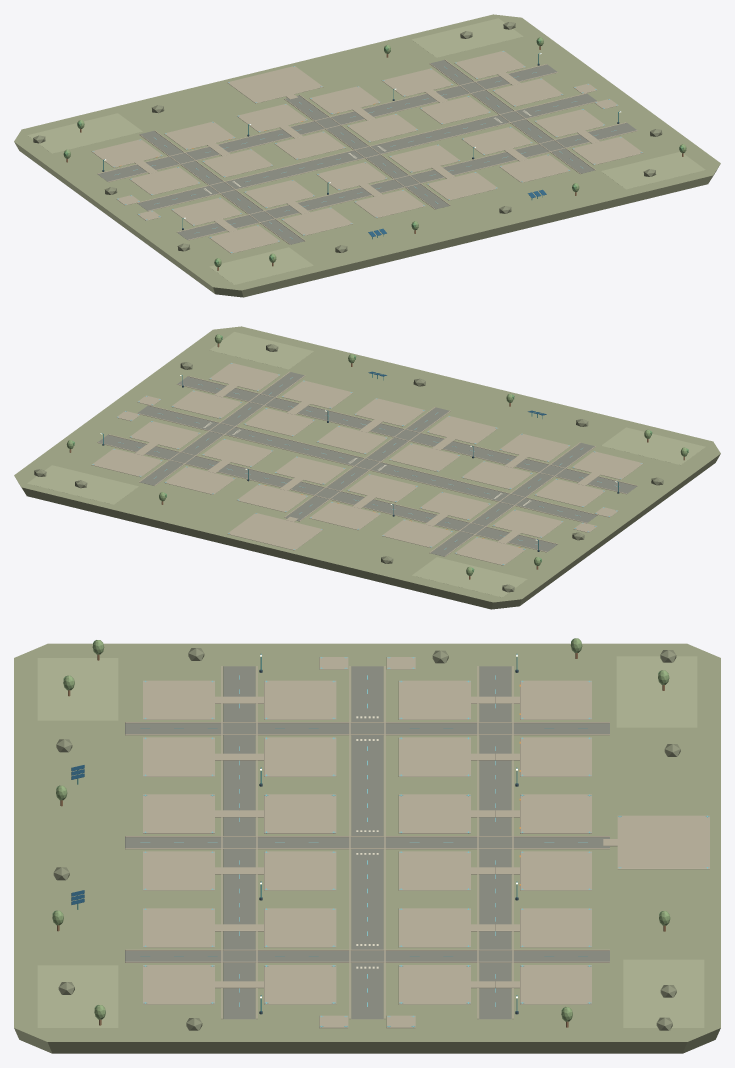
The model's file is ground.glb.
3 views of the same model, one above another, from view 1: azimuth 30°, elevation 25°; view 2: azimuth 150°, elevation 25°; view 3: azimuth 270°, elevation 25° (orthographic). The views are drawn at different scales.
Visible parts, largest first — view 1: planet_colony__Terrain, planet_colony__Roads, planet_colony__Decoration; view 2: planet_colony__Terrain, planet_colony__Roads, planet_colony__Decoration; view 3: planet_colony__Terrain, planet_colony__Roads, planet_colony__Decoration.
Boxes of the visible parts, bbox=[...] form: planet_colony__Terrain: bbox=[14, 14, 720, 297]; planet_colony__Roads: bbox=[91, 50, 643, 253]; planet_colony__Decoration: bbox=[33, 22, 686, 270]; planet_colony__Terrain: bbox=[14, 326, 720, 609]; planet_colony__Roads: bbox=[91, 362, 643, 565]; planet_colony__Decoration: bbox=[34, 334, 688, 592]; planet_colony__Terrain: bbox=[14, 643, 720, 1053]; planet_colony__Roads: bbox=[125, 657, 709, 1028]; planet_colony__Decoration: bbox=[52, 638, 680, 1030].
Size of the model in its own units: 140 by 5.7 by 105.
